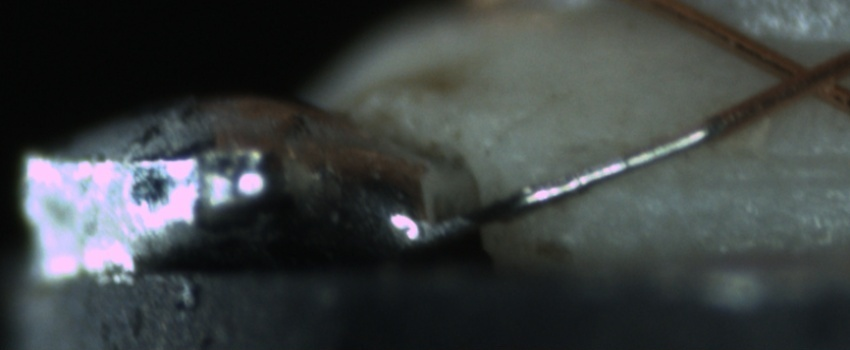CL: (756, 45, 843, 106)
DL: (678, 137, 847, 204)
TS: (411, 122, 708, 243)
